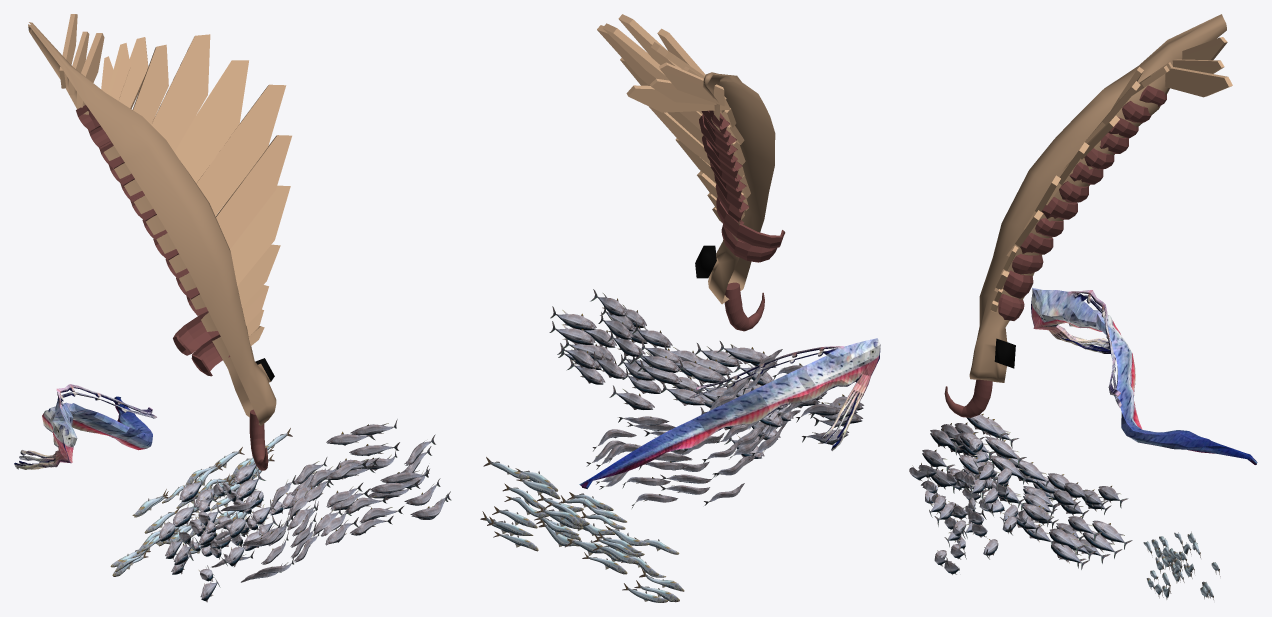
File: undersea.glb
3 renders of one model, left to right at view 1: azimuth 30°, elevation 25°; view 2: azimuth 150°, elevation 25°; view 3: azimuth 270°, elevation 25°, orthographic. The views are drawn at different scales.
Parts seen in each view (by area): view 1: 立方体.048, 立方体.002, ryugu, 立方体.007, 円柱, 立方体.003; view 2: ryugu, 立方体.048, 立方体.002, 立方体.007, 円柱, 立方体.003; view 3: 立方体.002, ryugu, 立方体.048, 円柱, 立方体.007, 立方体.011, 立方体.003, 立方体.008, 立方体.009, 立方体.013, 立方体.012.
Part boxes in pixels (x1=…): 立方体.048: x1=59, y1=14, x2=291, y2=345; 立方体.002: x1=28, y1=22, x2=276, y2=425; ryugu: x1=14, y1=384, x2=156, y2=469; 立方体.007: x1=173, y1=311, x2=219, y2=355; 円柱: x1=249, y1=409, x2=268, y2=470; 立方体.003: x1=191, y1=334, x2=230, y2=376; ryugu: x1=579, y1=338, x2=880, y2=488; 立方体.048: x1=597, y1=14, x2=750, y2=222; 立方体.002: x1=695, y1=72, x2=775, y2=304; 立方体.007: x1=716, y1=197, x2=785, y2=248; 円柱: x1=724, y1=282, x2=764, y2=331; 立方体.003: x1=721, y1=224, x2=777, y2=262; 立方体.002: x1=969, y1=14, x2=1226, y2=382; ryugu: x1=1031, y1=288, x2=1257, y2=464; 立方体.048: x1=990, y1=37, x2=1232, y2=312; 円柱: x1=944, y1=379, x2=992, y2=417; 立方体.007: x1=1003, y1=270, x2=1033, y2=298; 立方体.011: x1=1041, y1=197, x2=1077, y2=219; 立方体.003: x1=998, y1=294, x2=1024, y2=320; 立方体.008: x1=1012, y1=254, x2=1043, y2=274; 立方体.009: x1=1020, y1=233, x2=1053, y2=254; 立方体.013: x1=1069, y1=162, x2=1103, y2=184; 立方体.012: x1=1059, y1=181, x2=1088, y2=202.
Size of the model in its own units: 1.87 by 2.76 by 1.65.
Materials: 20 (3 with a texture image).
